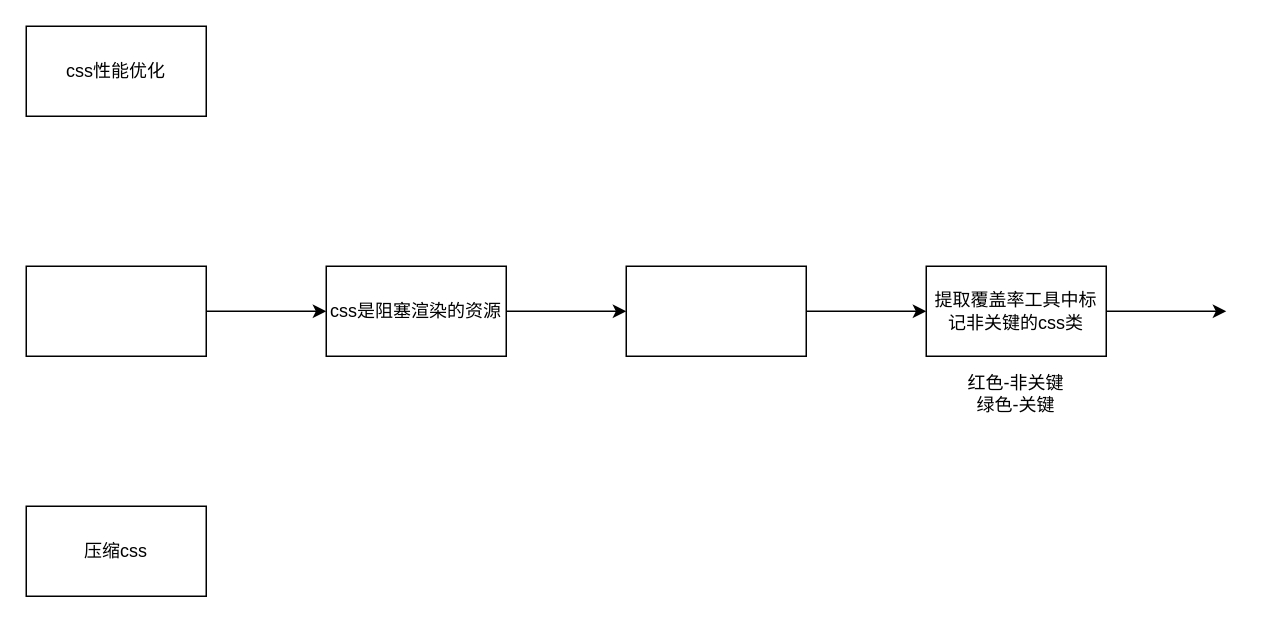
Image size: 1265x623. Some labels were removed from this diagram. Each missing label, with the centre of its shape:
"推迟非关键css" belongs at point 115,310.
"覆盖率工具" belongs at point 715,310.
